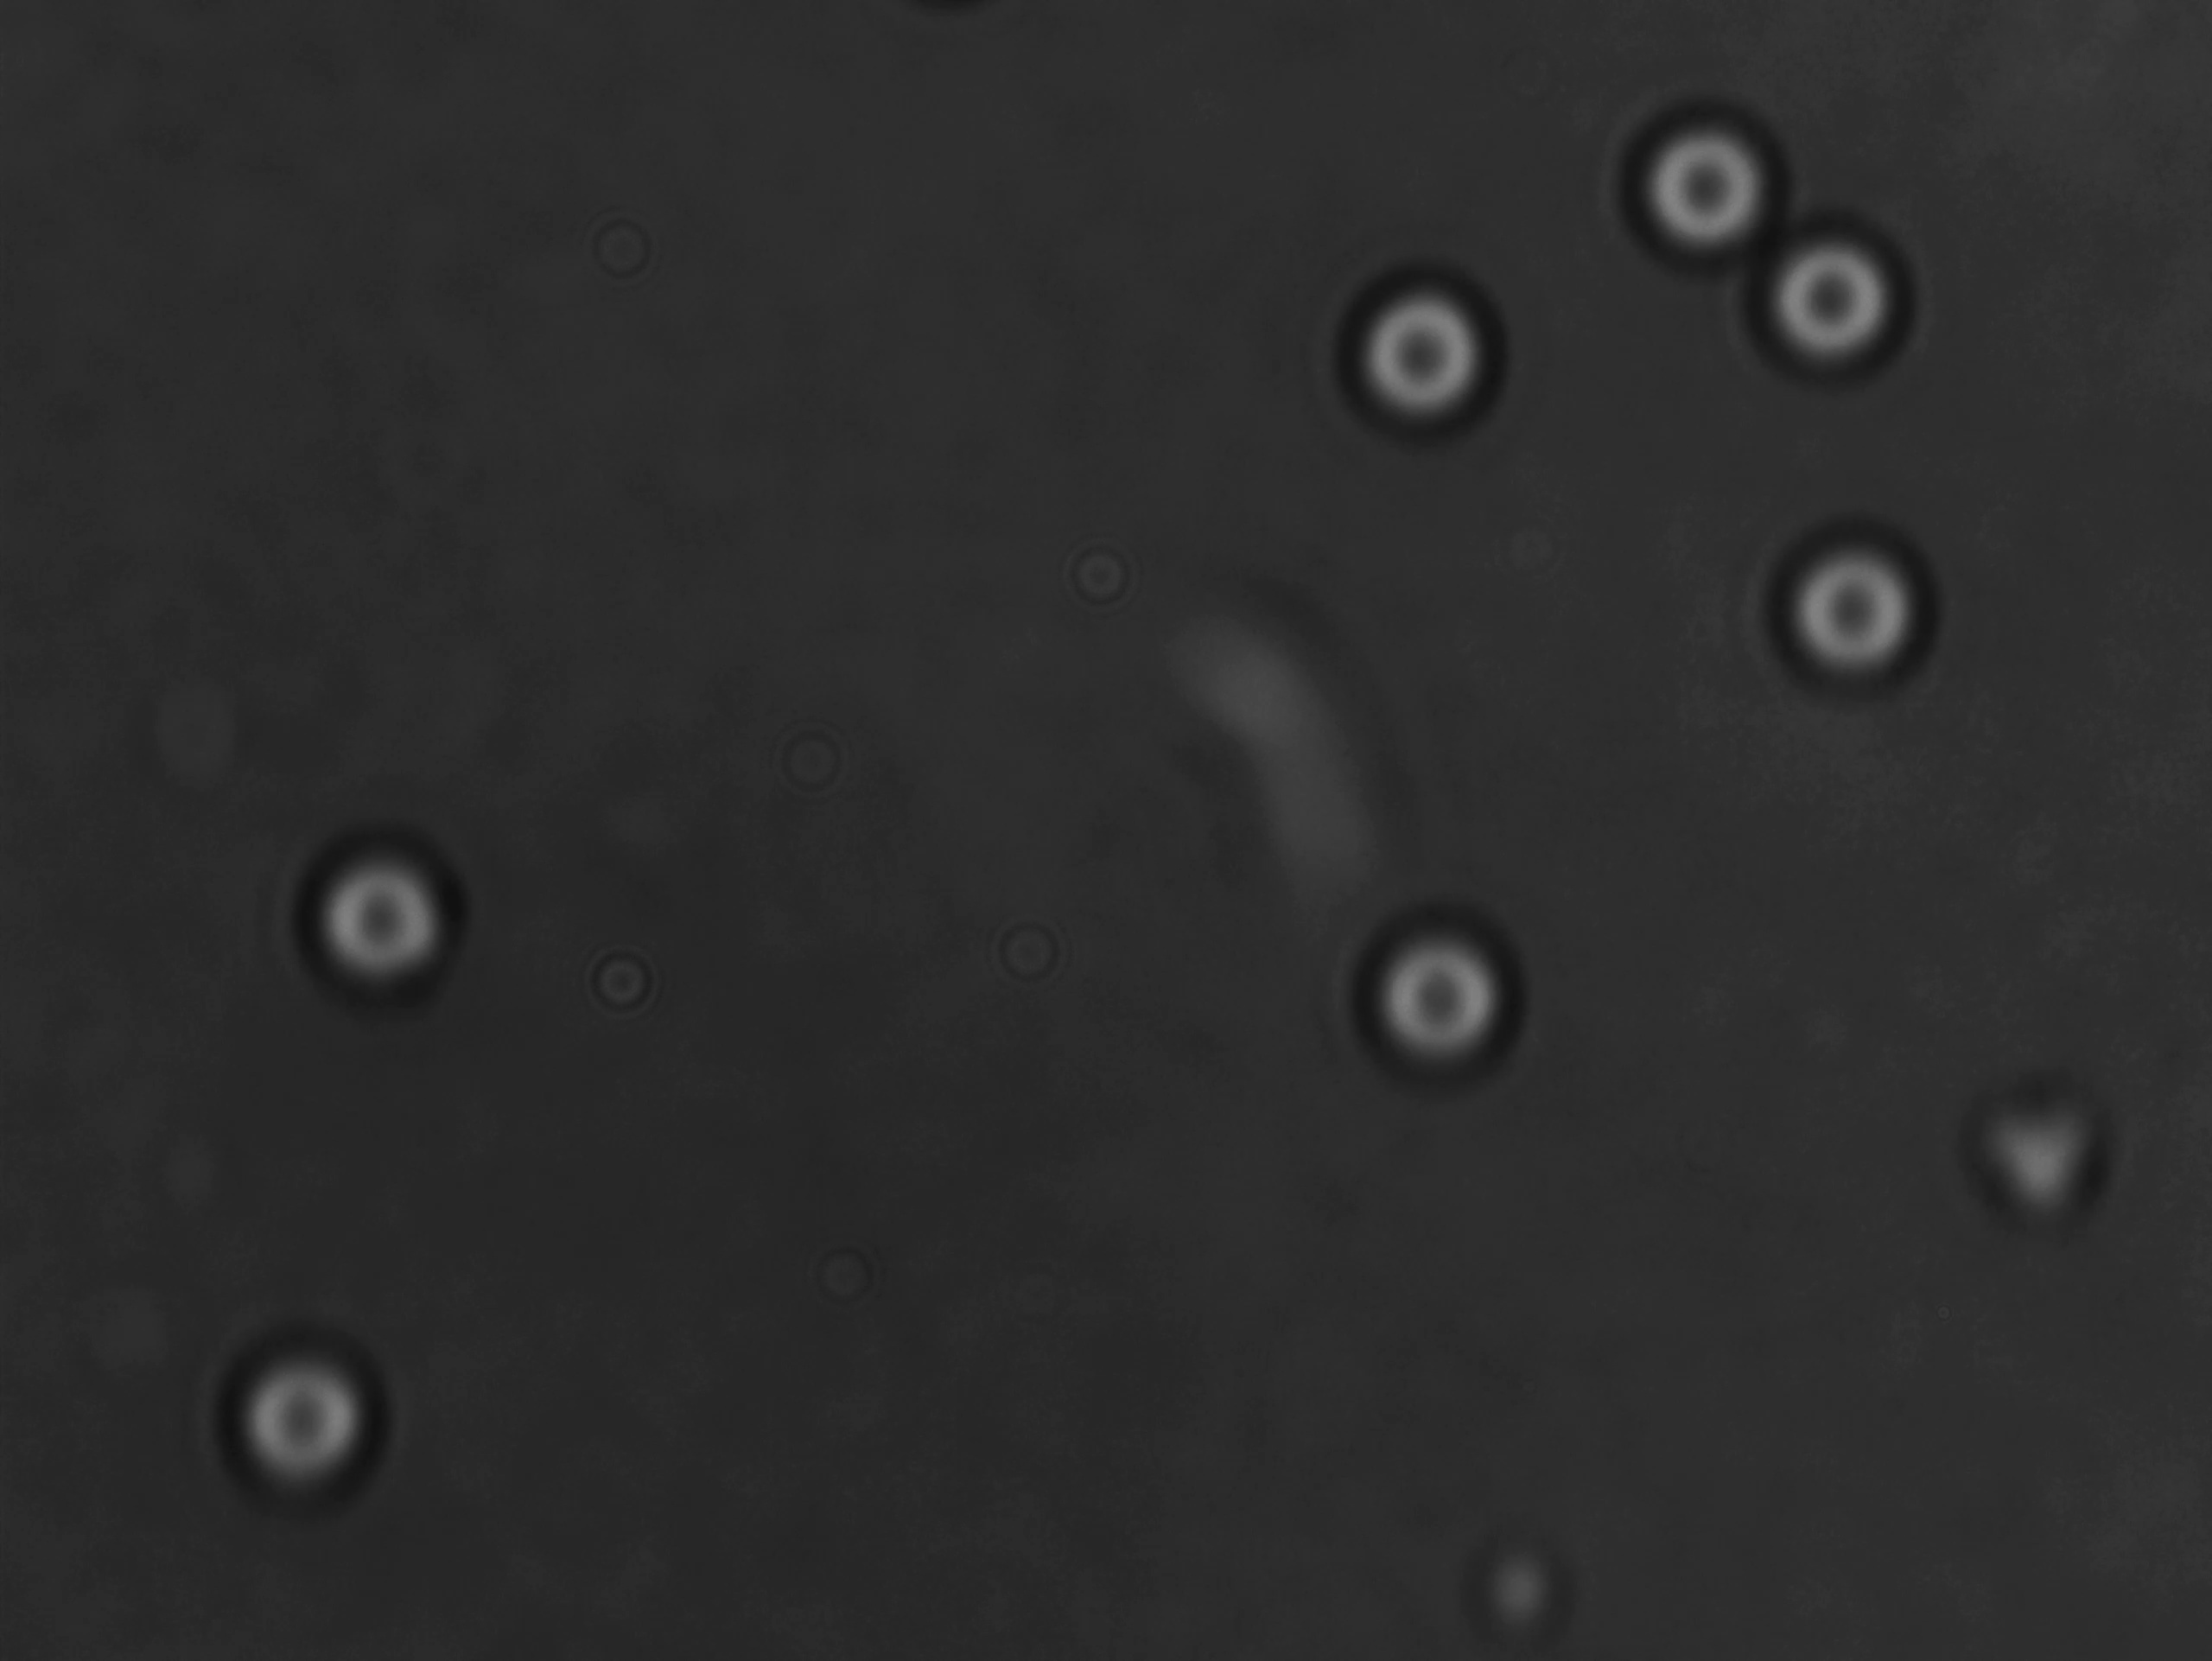depth:80: (192, 1338, 443, 1541), (1328, 239, 1553, 448), (1317, 902, 1547, 1099), (1708, 197, 1929, 382), (302, 824, 483, 1047), (1767, 509, 1968, 700), (1608, 89, 1800, 267)
